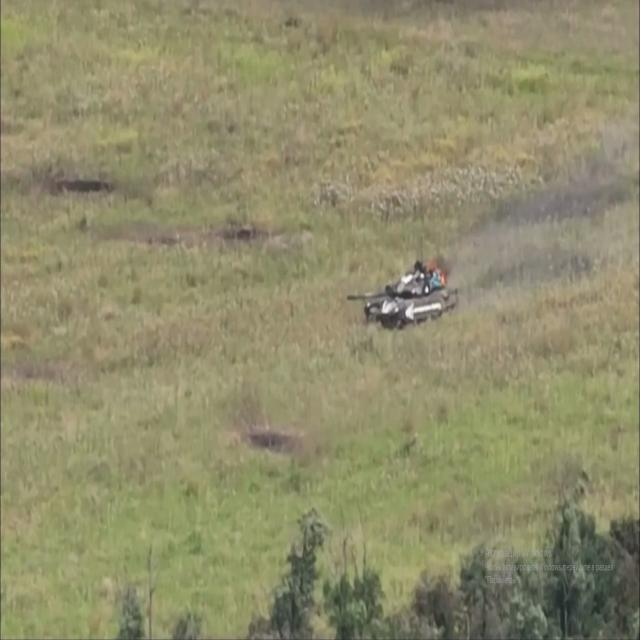MBT: (346, 259, 462, 333)
